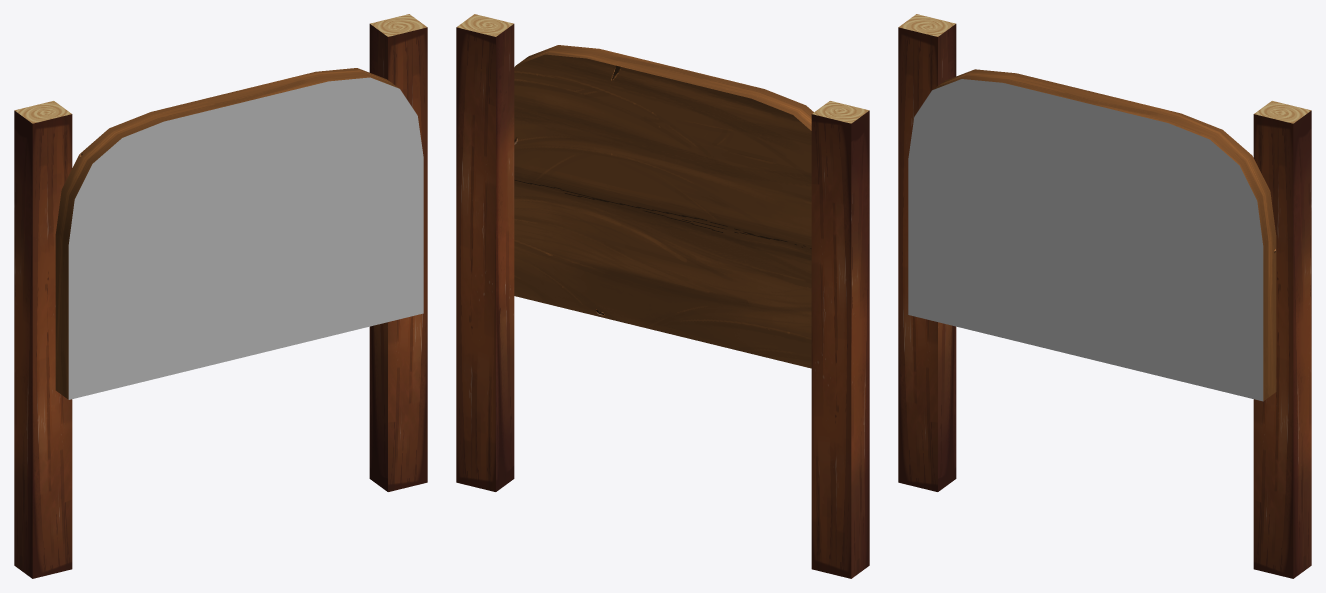
Rendered from PettingZoo_Sign.FBX.
The picture shows the model from 3 angles, left to right: view 1: azimuth 30°, elevation 25°; view 2: azimuth 150°, elevation 25°; view 3: azimuth 330°, elevation 25°; orthographic projection.
Parts seen in each view (by area): view 1: Sign, Sign_Beams; view 2: Sign, Sign_Beams; view 3: Sign, Sign_Beams.
Boxes of the visible parts, x1=… form: Sign: x1=55, y1=68, x2=423, y2=399; Sign_Beams: x1=14, y1=14, x2=427, y2=578; Sign: x1=514, y1=45, x2=813, y2=368; Sign_Beams: x1=456, y1=14, x2=869, y2=578; Sign: x1=908, y1=69, x2=1276, y2=401; Sign_Beams: x1=898, y1=14, x2=1311, y2=578.
Size of the model in its own units: 100 by 110 by 13.76.
